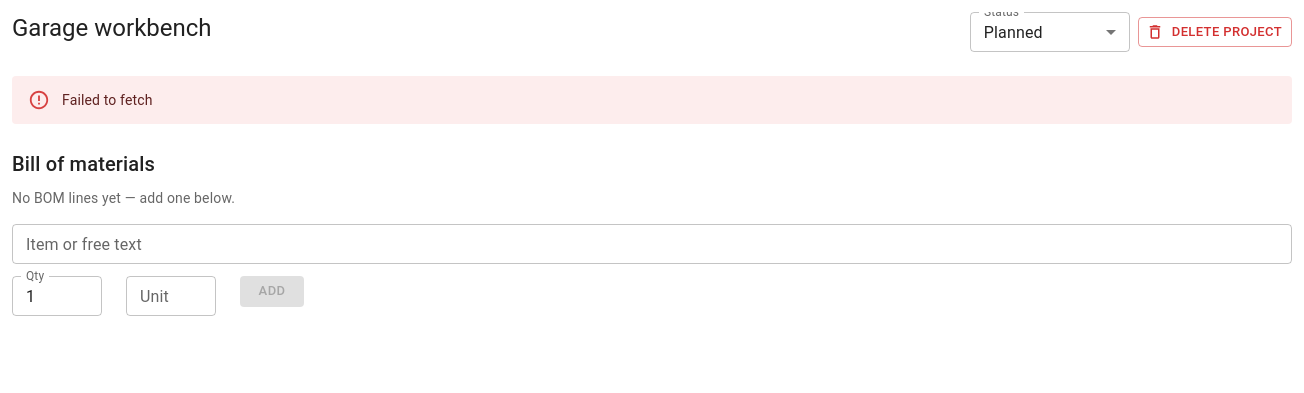
Test: ProjectDetailPage › surfaces an error alert when the add-line mutation fails
Expected: the heading "Garage workbench" is shown, x1=12 y1=12 x2=212 y2=44
Type "Broken line" into the dropdown labelled "Item or free text" at (650, 244), box x1=18 y1=230 x2=1283 y2=258
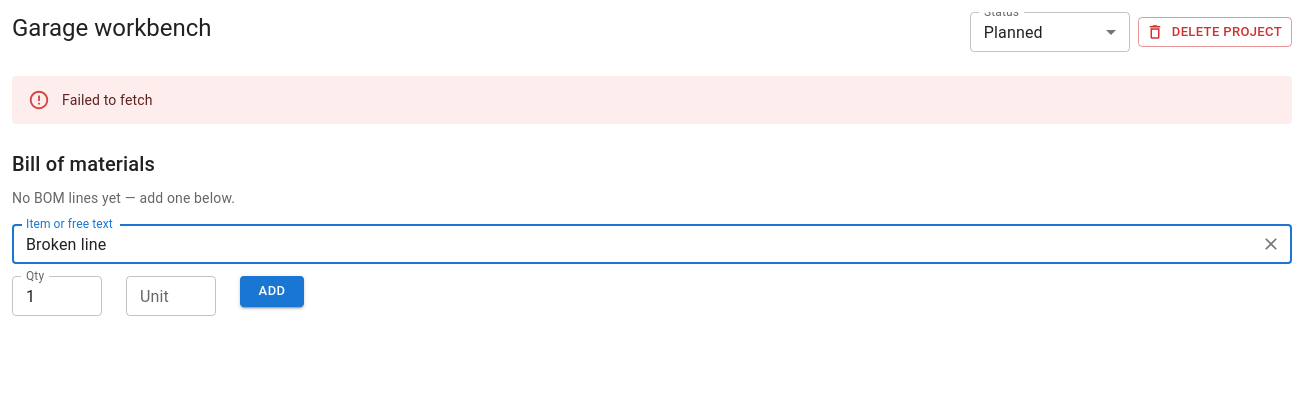
Click the button "Add" at (272, 291), box x1=240 y1=276 x2=304 y2=307
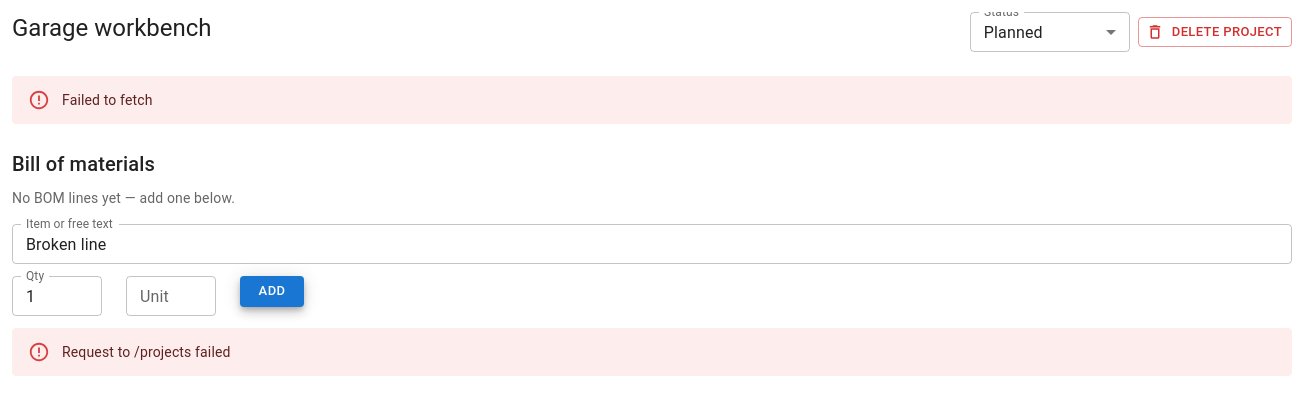
Expected: the text "Request to /projects failed" is shown, x1=62 y1=344 x2=231 y2=360
